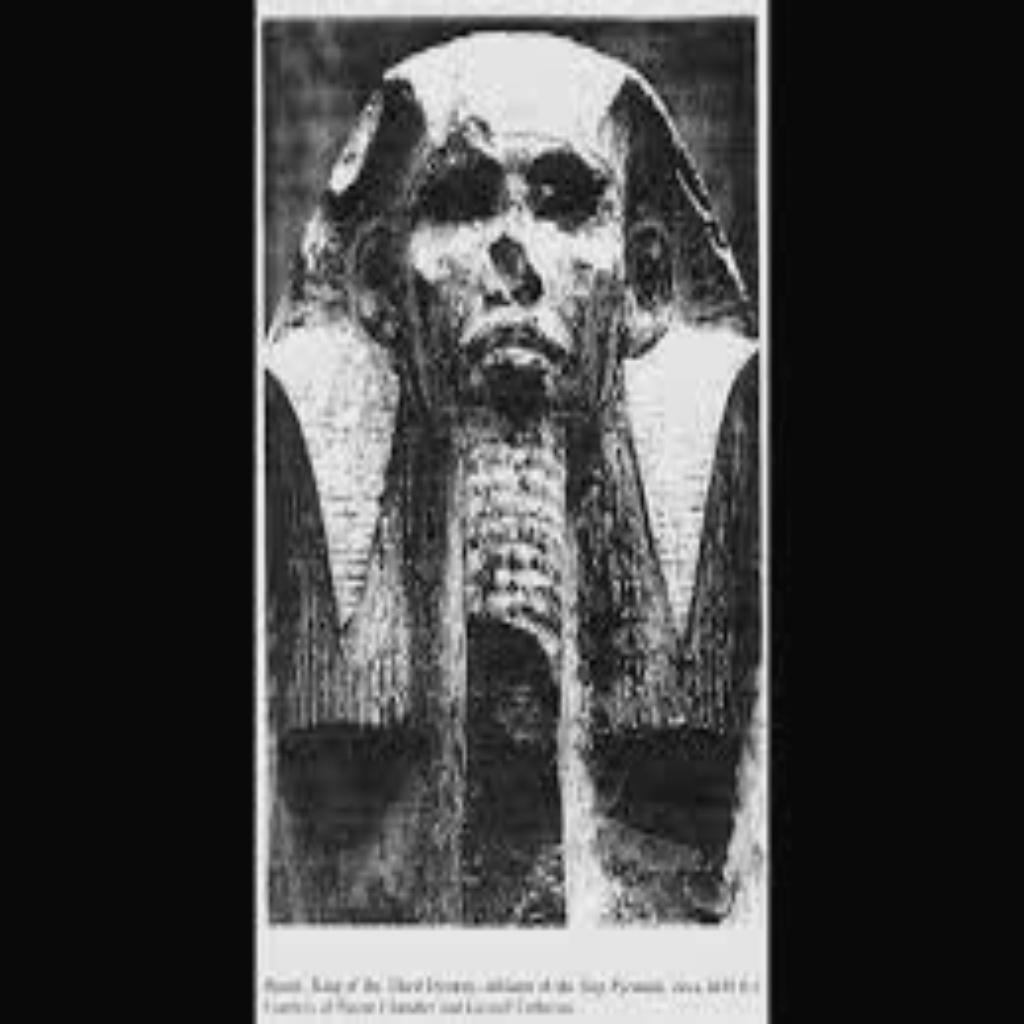Statue of King Zoser: (261, 26, 759, 924)
